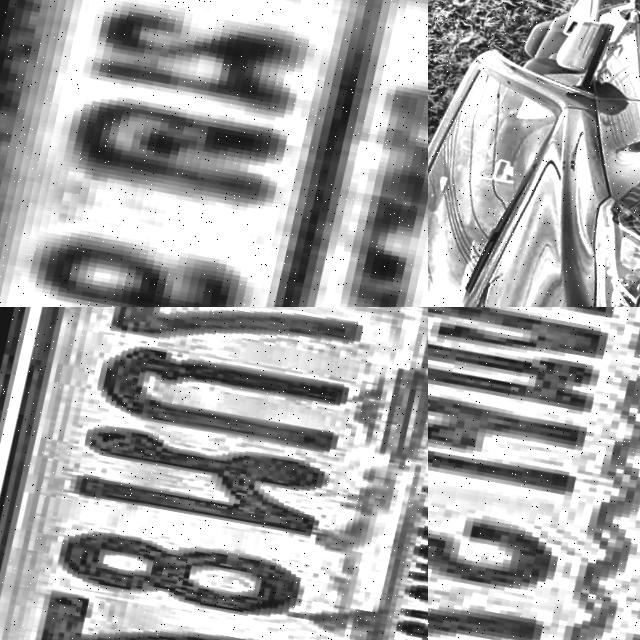license-plate: (0, 307, 428, 640), (0, 0, 428, 307), (428, 307, 640, 640)
